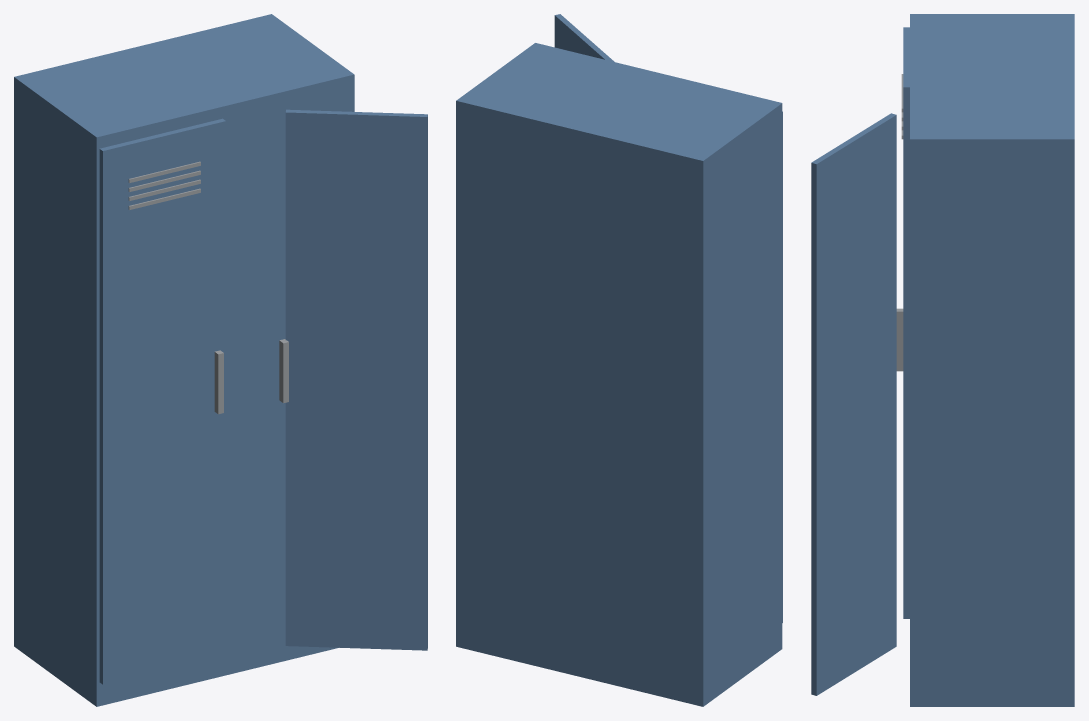
The model's file is standin_janitor_cabinet.glb.
3 views of the same model, side by side, from view 1: azimuth 30°, elevation 25°; view 2: azimuth 150°, elevation 25°; view 3: azimuth 270°, elevation 25° (orthographic). The views are drawn at different scales.
Parts seen in each view (by area): view 1: standin_janitor_cabinet; view 2: standin_janitor_cabinet; view 3: standin_janitor_cabinet.
Part boxes in pixels (x1,y1,x2,y2): standin_janitor_cabinet: [14, 14, 427, 706]; standin_janitor_cabinet: [456, 14, 782, 706]; standin_janitor_cabinet: [811, 14, 1074, 706].
Bounding box in the file's own units: 0.9931 × 1.9 × 0.7997.
